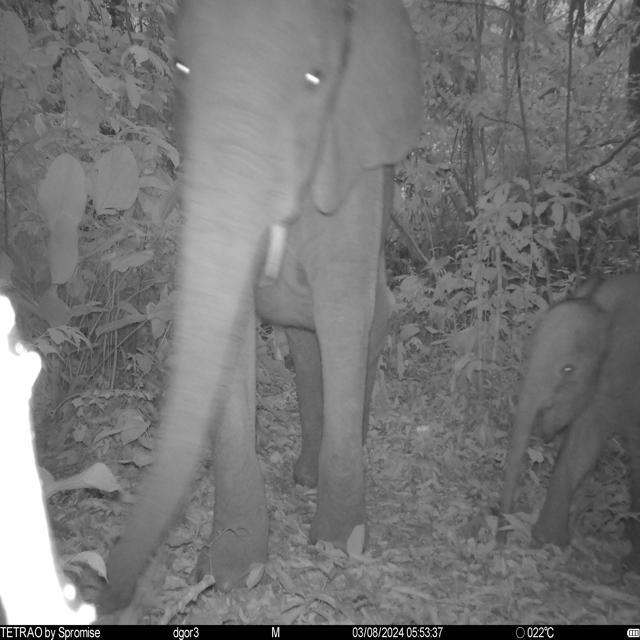calf: (498, 263, 640, 550)
ear: (310, 2, 426, 212)
elephant: (90, 0, 425, 612)
tusk: (255, 226, 288, 292)
